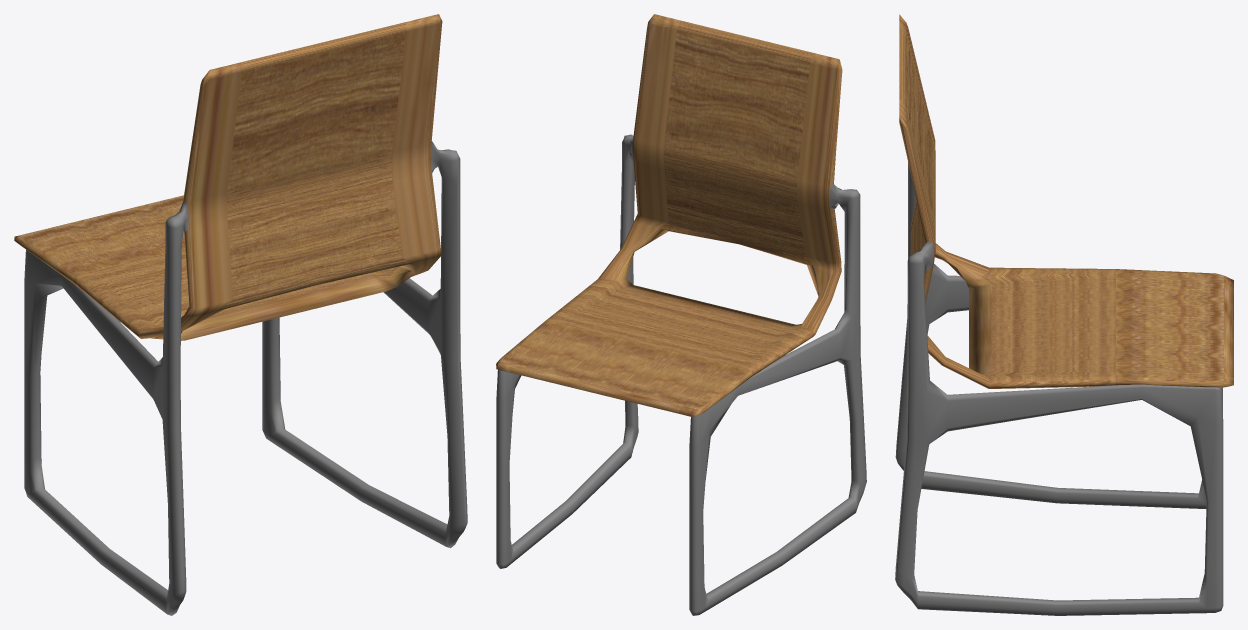
The model's file is Outdoorchair.fbx.
3 renders of one model, left to right at view 1: azimuth 30°, elevation 25°; view 2: azimuth 150°, elevation 25°; view 3: azimuth 270°, elevation 25°, orthographic. The views are drawn at different scales.
Parts seen in each view (by area): view 1: Chair4; view 2: Chair4; view 3: Chair4.
Boxes of the visible parts, left/top/right/bottom form: Chair4: left=14, top=14, right=467, bottom=615; Chair4: left=496, top=14, right=866, bottom=615; Chair4: left=895, top=14, right=1233, bottom=615.
Size of the model in its own units: 48.49 by 88.43 by 54.81.
